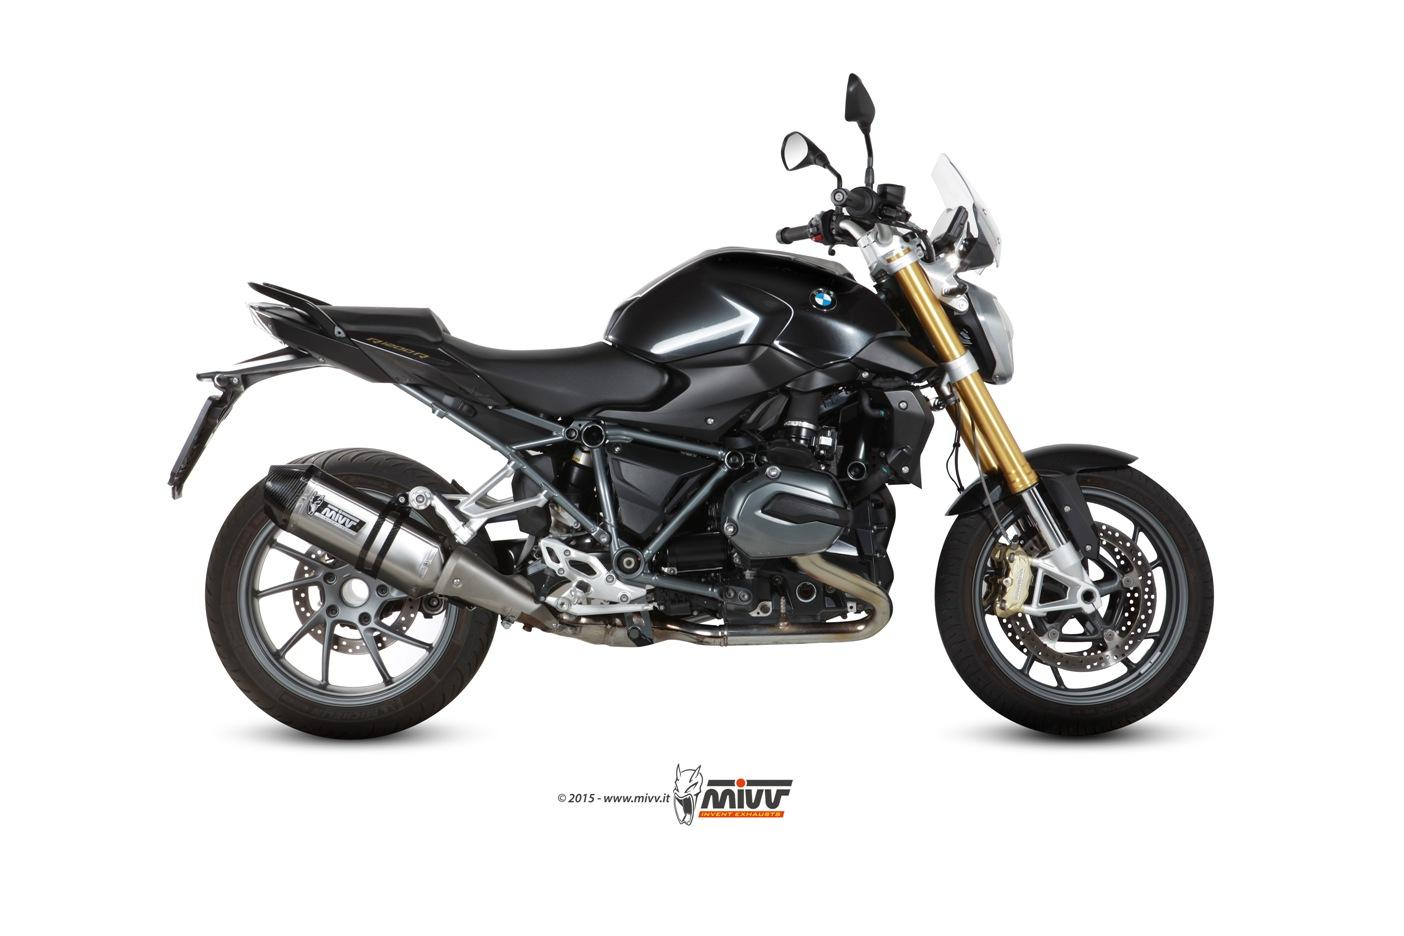engine-chasis: (539, 346, 909, 625), (557, 443, 595, 517), (548, 501, 582, 534)
exhaust: (263, 464, 893, 648)
frontside: (850, 153, 1140, 616)
handlebar: (776, 72, 969, 282)
rearside: (167, 281, 612, 598)
seat: (315, 305, 671, 418)
tank: (604, 247, 911, 368)
watermark: (551, 763, 799, 829)
wheel: (204, 473, 498, 741), (934, 466, 1215, 738), (286, 447, 463, 502), (969, 412, 1020, 549), (945, 382, 965, 494)
